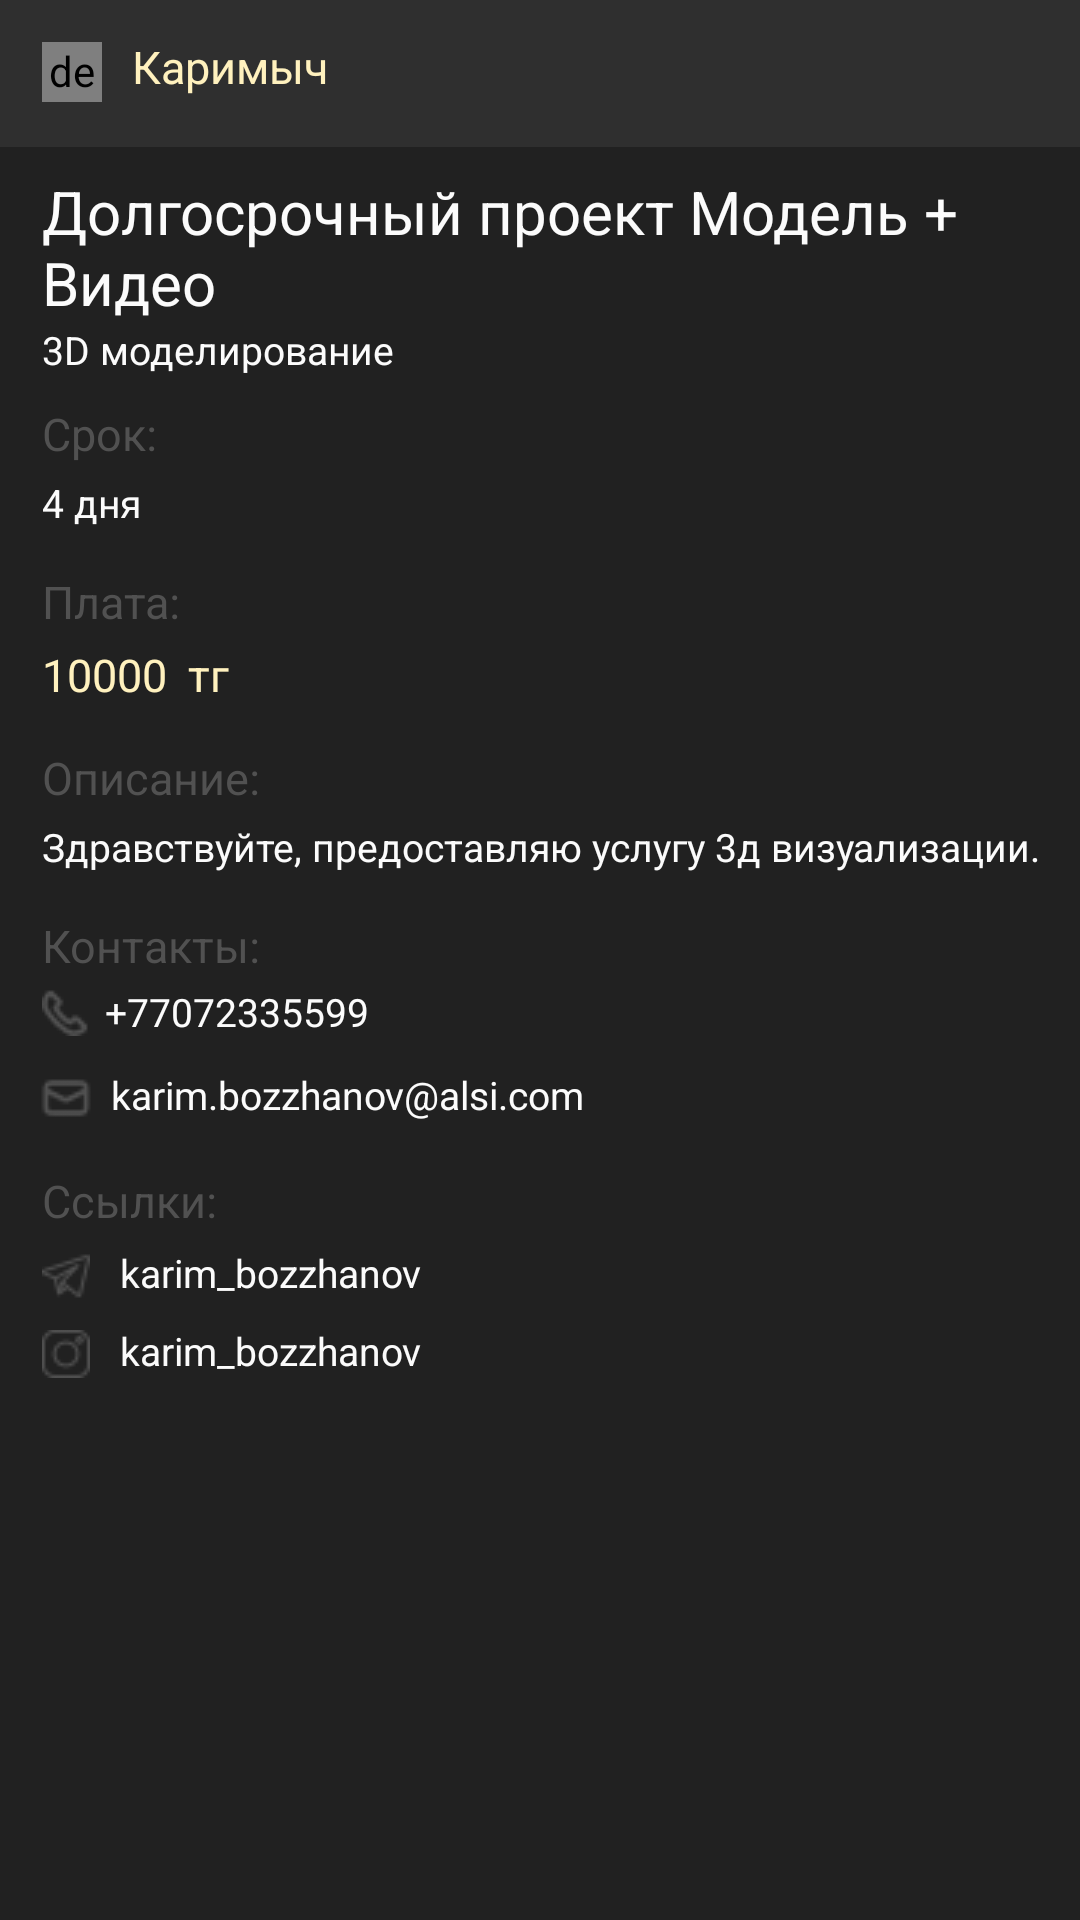

Icons on this 1080×1920 Android screen, each with the point to tap as point (x, y):
email: point (66, 1098)
phone: point (64, 1013)
